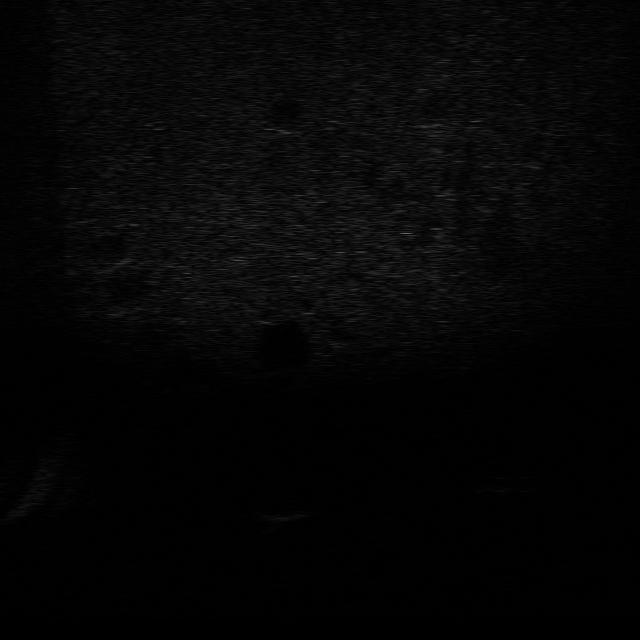ball: (472, 468, 530, 502)
square cage: (252, 500, 316, 536)
